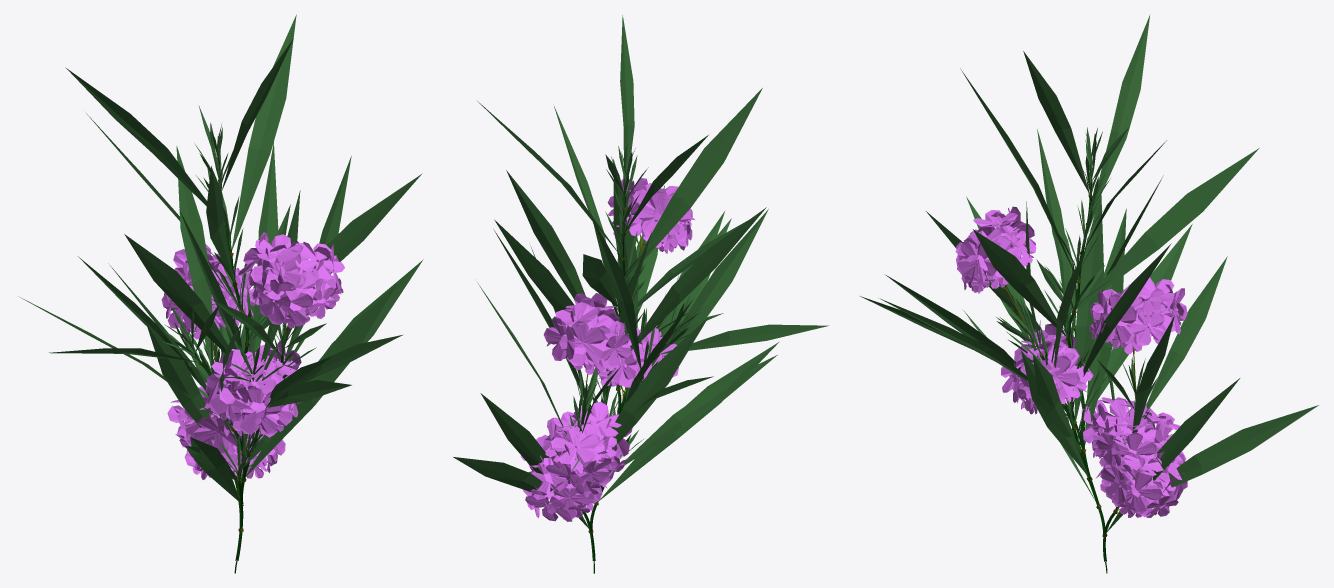
Rendered from m_plants.obj.
The picture shows the model from 3 angles, left to right: view 1: azimuth 30°, elevation 25°; view 2: azimuth 150°, elevation 25°; view 3: azimuth 270°, elevation 25°; orthographic projection. The views are drawn at different scales.
Parts seen in each view (by area): view 1: 1phlox; view 2: 1phlox; view 3: 1phlox.
Part boxes in pixels (x1,y1,x2,y2): 1phlox: (20, 14, 423, 573); 1phlox: (453, 15, 828, 573); 1phlox: (860, 14, 1318, 573).
Size of the model in its own units: 1.24 by 1.81 by 1.43.
